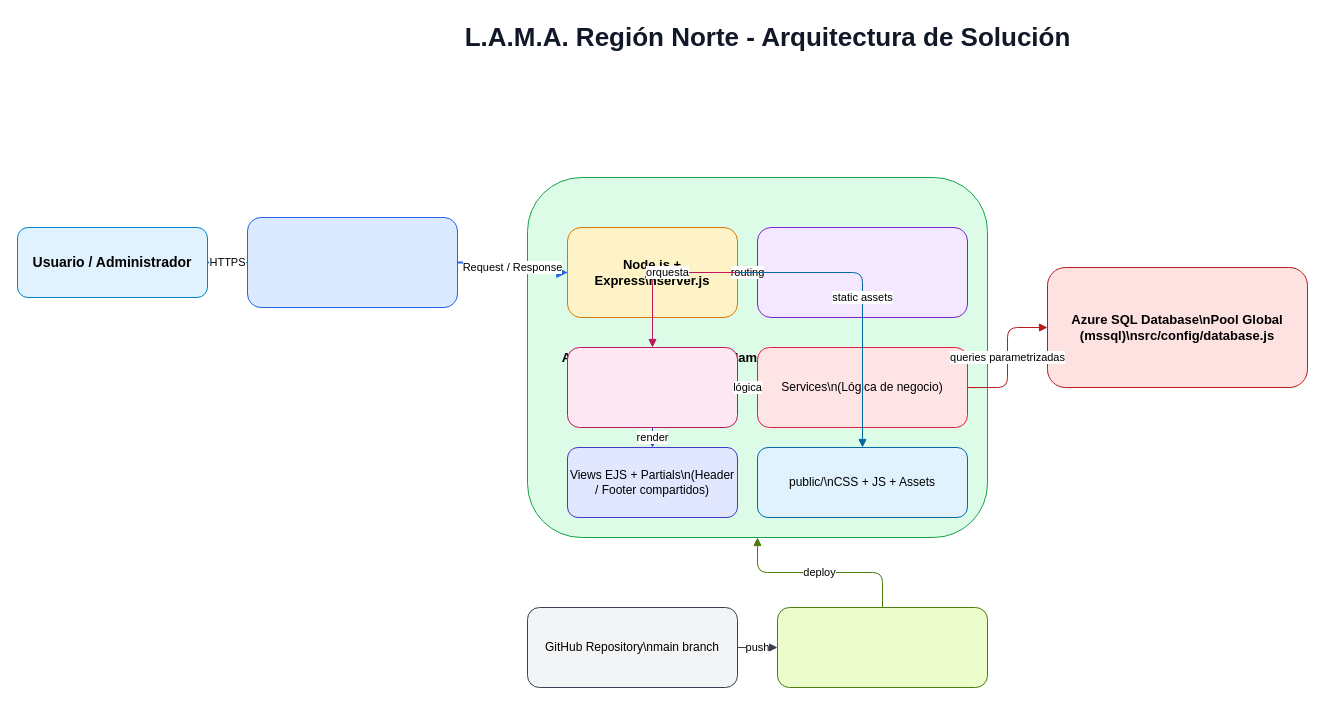
The diagram is 1325 pixels wide and 705 high, and some of its shapes have lost their labels. The centre of each missing label's shape, as x and y in pixels:
"Controllers\n(Orquestación MVC)" goes at (x=652, y=387).
"Navegador Web\n(Desktop / Mobile)" goes at (x=352, y=262).
"Routes\n(mainRoutes, eventRoutes, apiRoutes)" goes at (x=862, y=272).
"Zip Deploy / OneDeploy\nAzure CLI" goes at (x=882, y=647).
